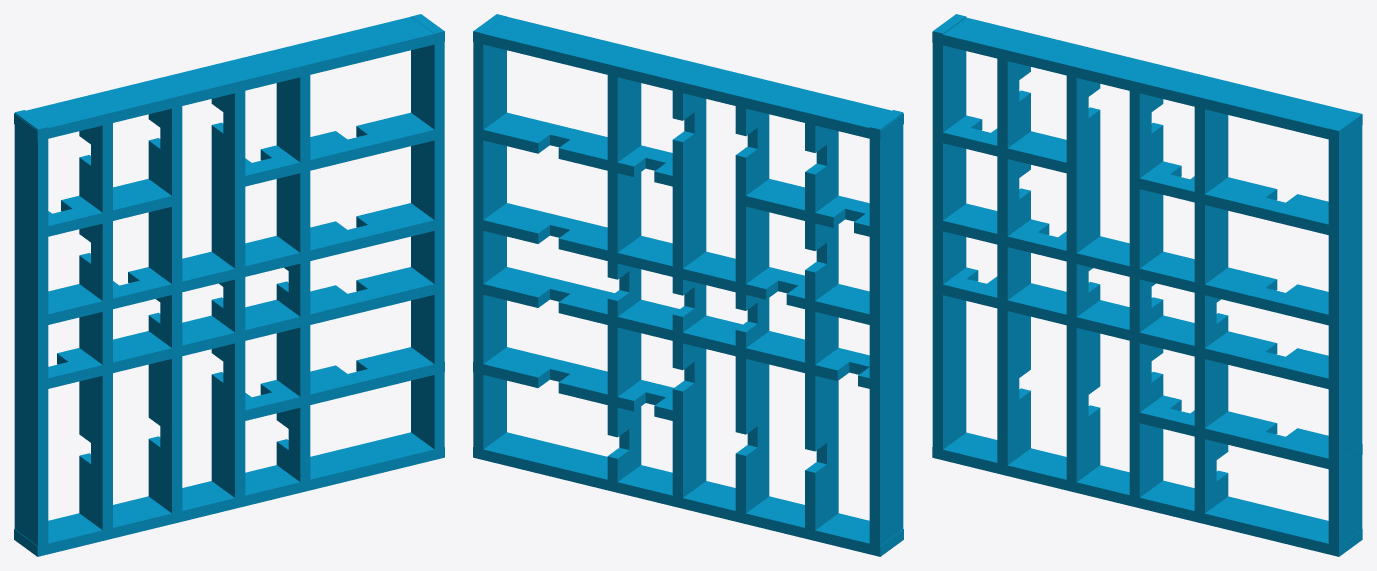
File: tinker.obj
The picture shows the model from 3 angles, left to right: view 1: azimuth 30°, elevation 25°; view 2: azimuth 150°, elevation 25°; view 3: azimuth 330°, elevation 25°; orthographic projection.
Parts seen in each view (by area): view 1: obj_0; view 2: obj_0; view 3: obj_0.
Boxes of the visible parts, x1,y1,x2,y2 form: obj_0: [14, 14, 444, 556]; obj_0: [473, 14, 903, 556]; obj_0: [932, 14, 1362, 556].
Size of the model in its own units: 200 by 200 by 20.
